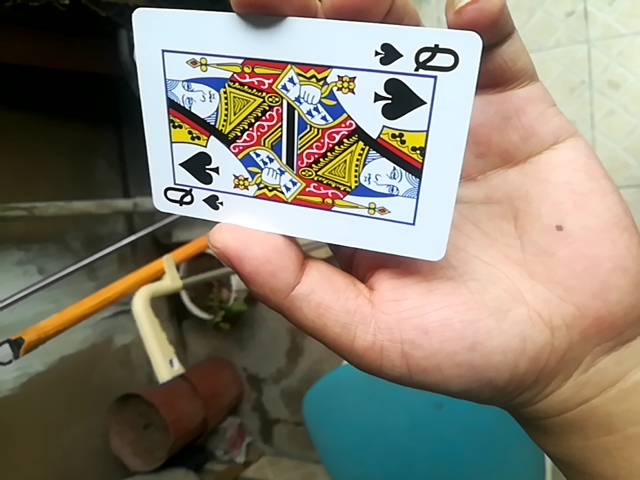ht q: (129, 8, 487, 264)
